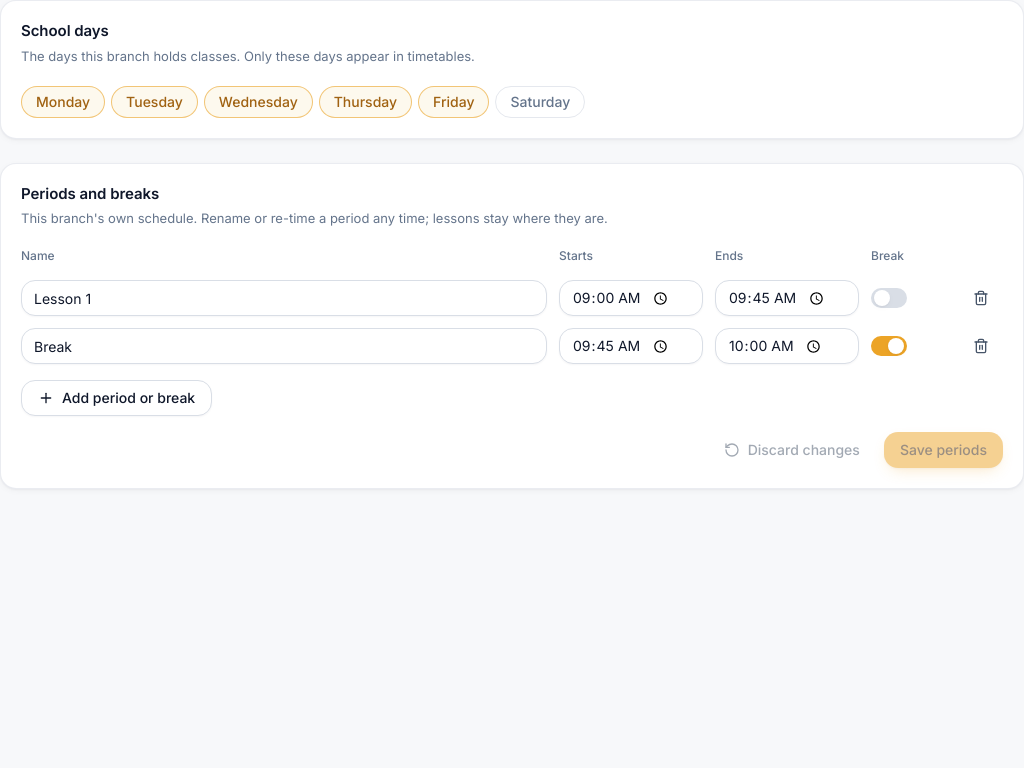
PeriodsTab › explains what's wrong instead of saving
Click the button "Monday" at [63, 102], box [21,86,105,118]
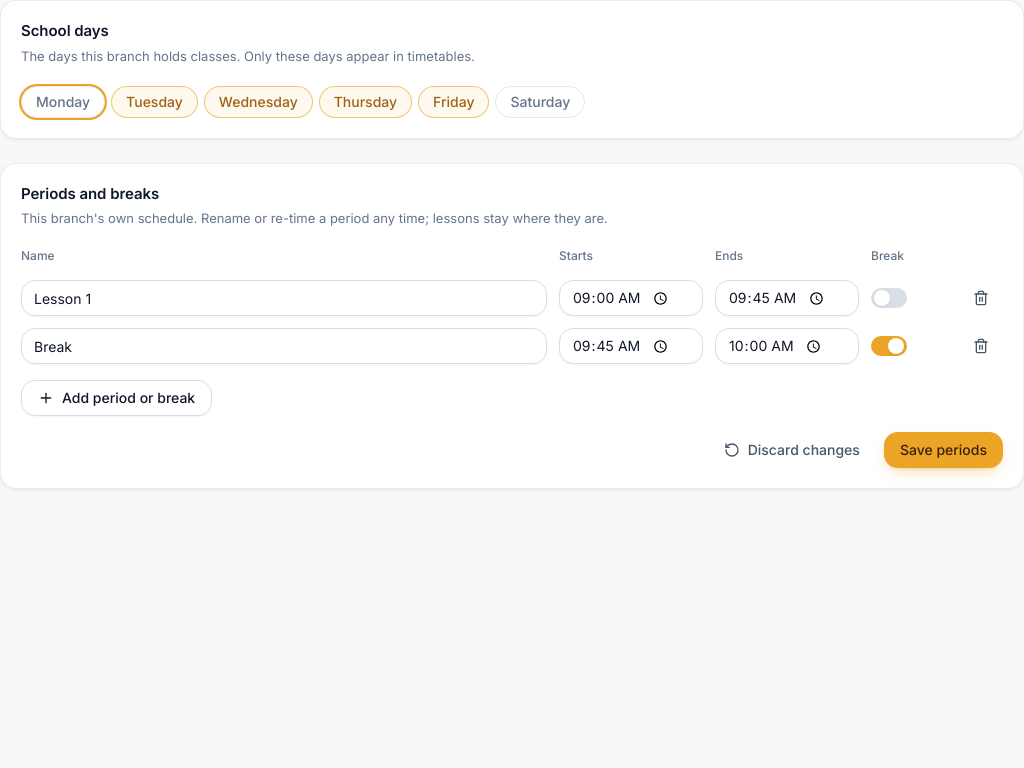
Click the button "Tuesday" at [154, 102], box [111,86,198,118]
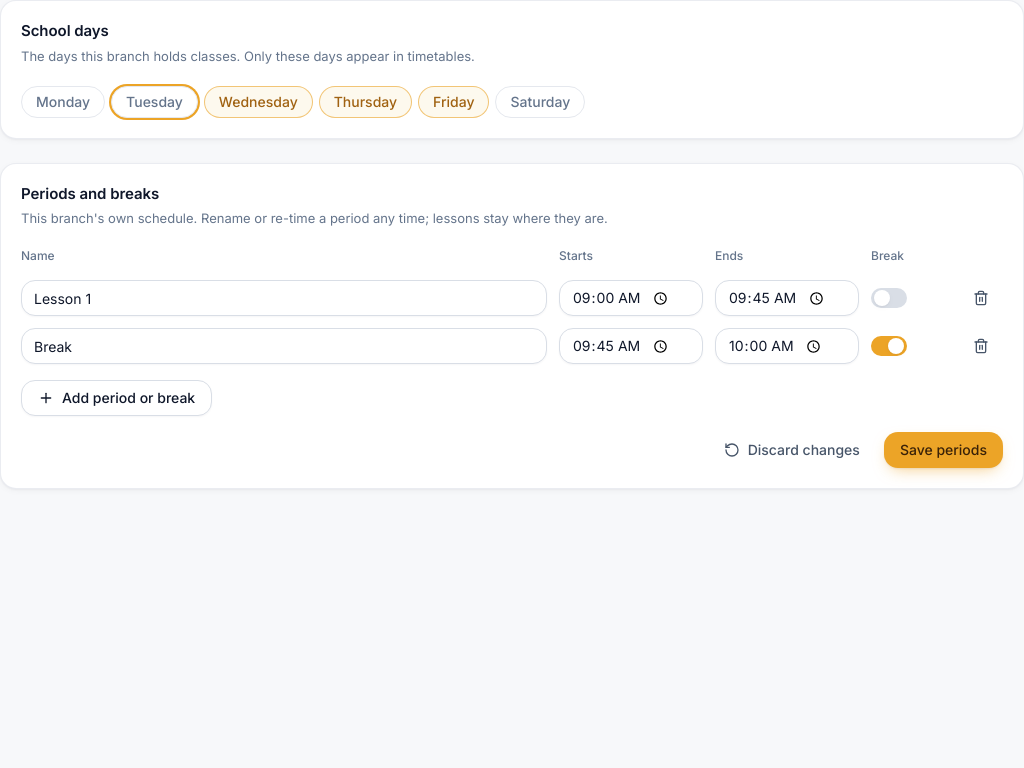
Click the button "Wednesday" at [258, 102], box [204,86,313,118]
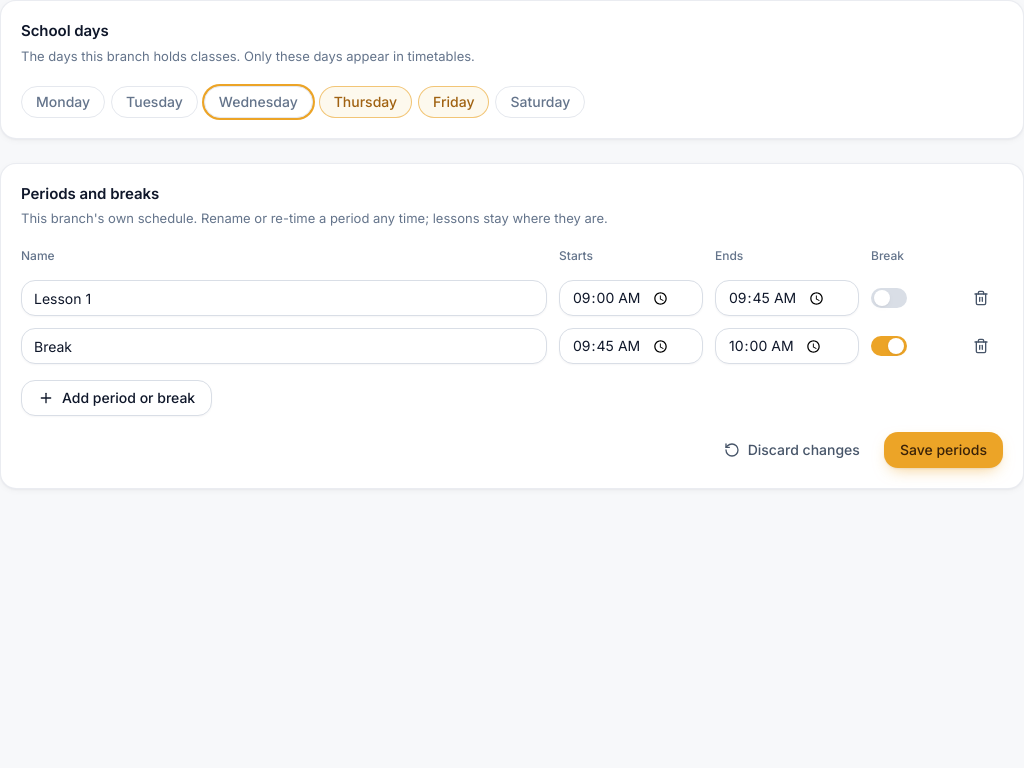
Click the button "Thursday" at [365, 102], box [319,86,412,118]
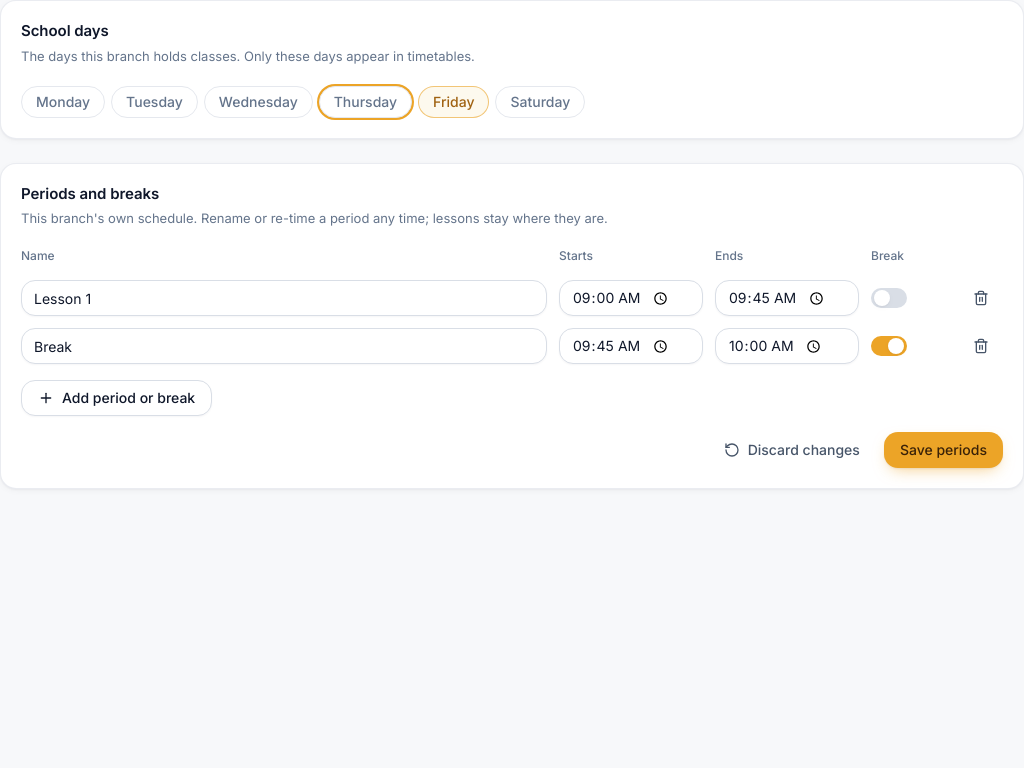
Click the button "Friday" at [454, 102], box [418,86,490,118]
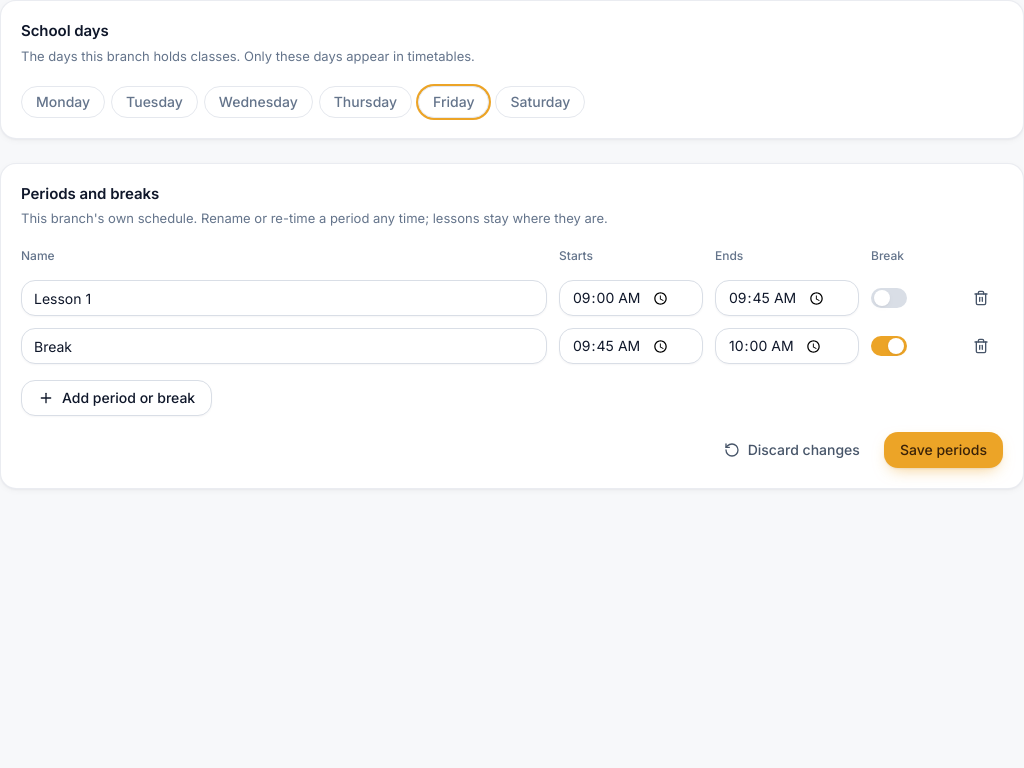
Click the button "Save periods" at [943, 450], box [884,432,1003,468]
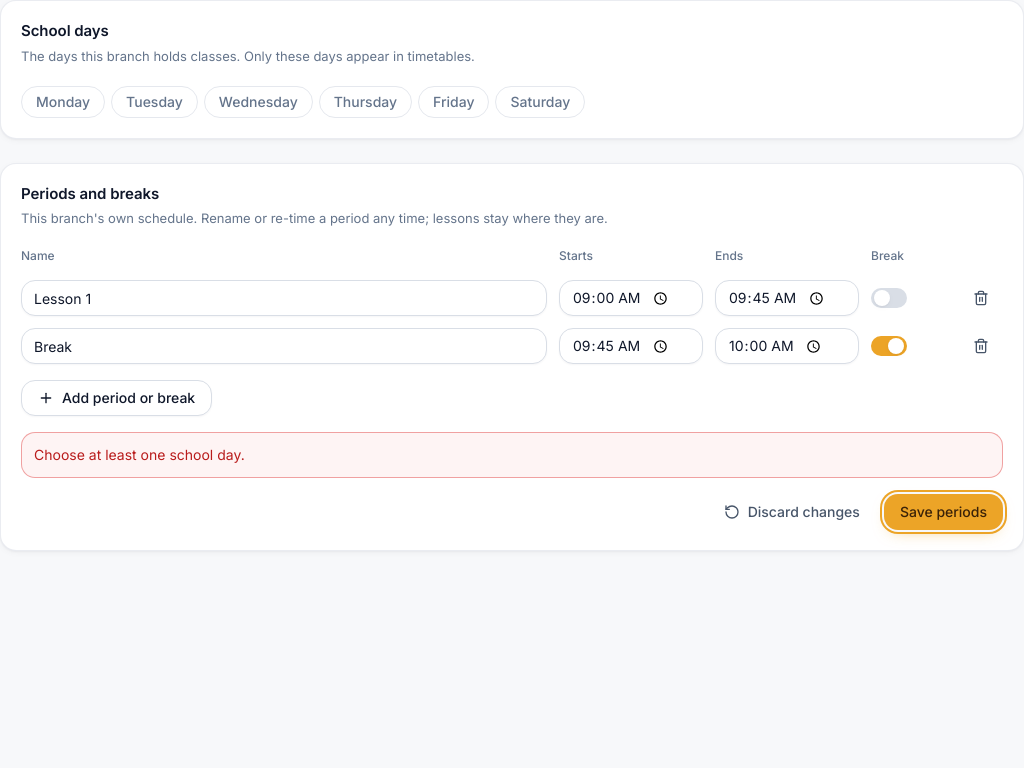
Now the message reads "Choose at least one school day.", box [34,446,245,463]
